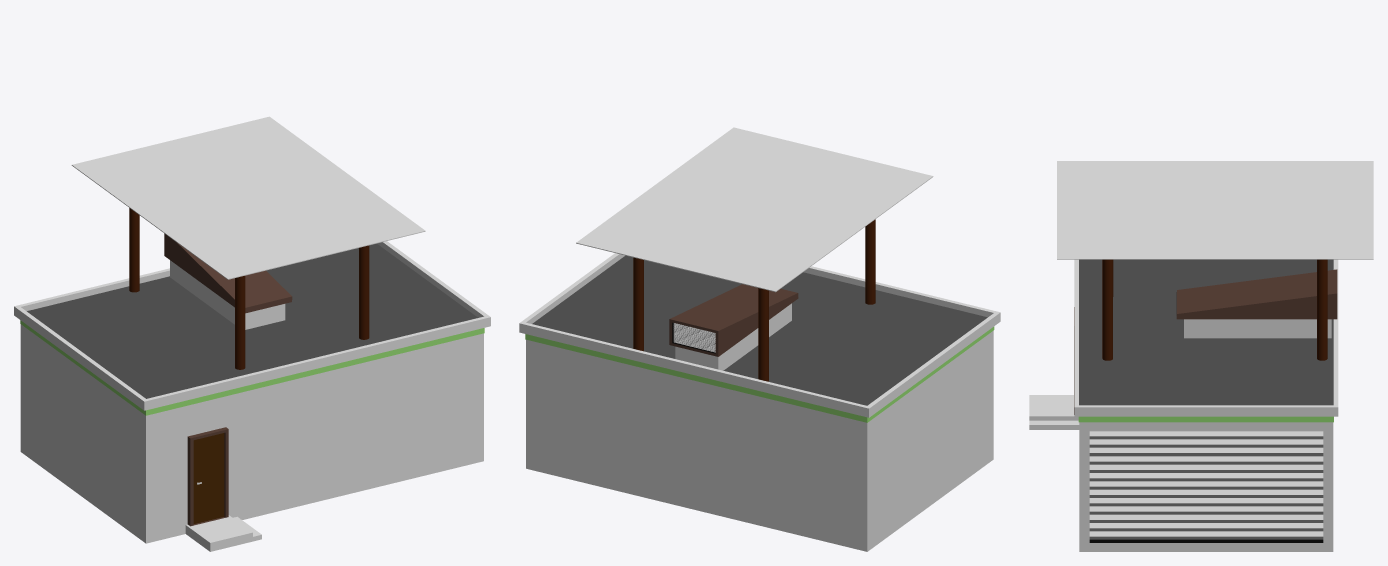
The model's file is GarageImp.fbx.
3 views of the same model, side by side, from view 1: azimuth 30°, elevation 25°; view 2: azimuth 150°, elevation 25°; view 3: azimuth 270°, elevation 25° (orthographic).
Visible parts, largest first — view 1: Garage, Плоскость, Навес; view 2: Garage, Плоскость, Навес, Решетка на крыше; view 3: Garage, Плоскость, GarageDoor, Навес.
Boxes of the visible parts, box(x1,y1,x2,y2) form: Garage: box(14, 233, 490, 551); Плоскость: box(71, 116, 425, 279); Навес: box(129, 208, 369, 369); Garage: box(519, 253, 1000, 551); Плоскость: box(576, 127, 933, 292); Навес: box(633, 219, 875, 381); Решетка на крыше: box(673, 323, 715, 352); Garage: box(1029, 259, 1338, 551); Плоскость: box(1057, 161, 1373, 259); GarageDoor: box(1089, 431, 1323, 539); Навес: box(1102, 259, 1327, 360).
Bounding box in the file's own units: 1628 × 2000 × 1381.
